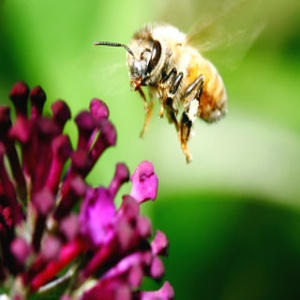bee: (91, 4, 264, 167)
